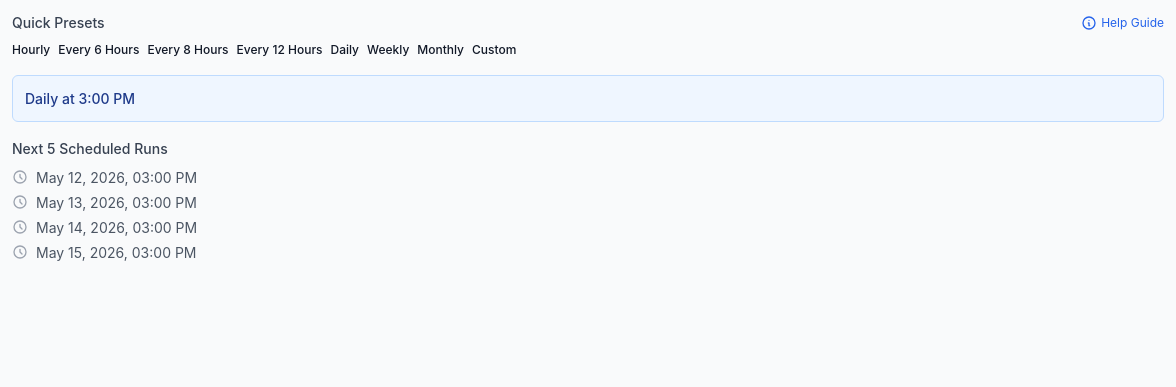
Test case: CronBuilder › Custom Expression Input › should display current value in custom input
The width and height of the screenshot is (1176, 387).
Step 1. Click the button "Custom" → (494, 50), box [472,41,516,59]
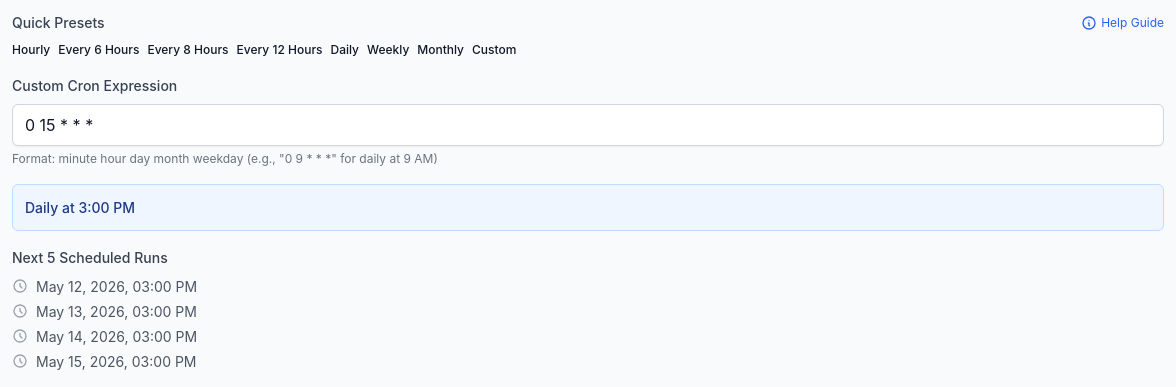
Expected: the field labelled "Custom Cron Expression" holds "0 15 * * *", [12,104,1164,146]
